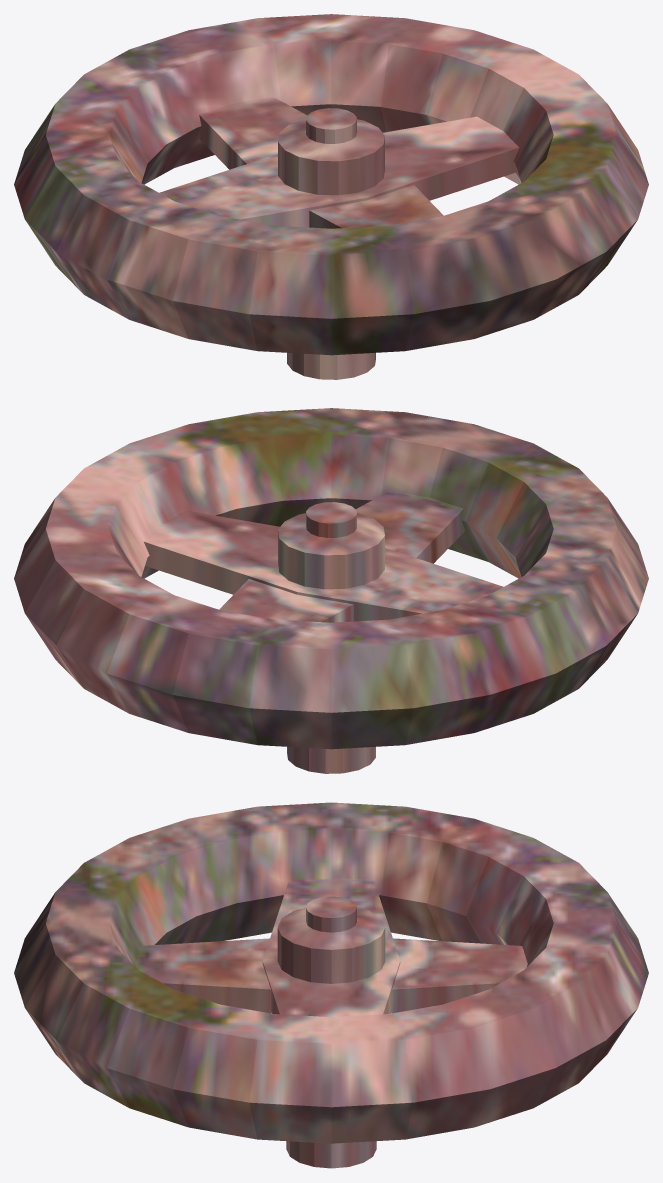
The model's file is GameValve.fbx.
The picture shows the model from 3 angles, top to bottom: view 1: azimuth 30°, elevation 25°; view 2: azimuth 150°, elevation 25°; view 3: azimuth 270°, elevation 25°; orthographic projection.
Parts seen in each view (by area): view 1: Valve; view 2: Valve; view 3: Valve.
Part boxes in pixels (box(x1,y1,x2,y2)): Valve: box(14, 14, 648, 379); Valve: box(14, 408, 648, 773); Valve: box(14, 802, 648, 1168).
Bounding box in the file's own units: 250 × 105 × 250.
Materials: 1 (1 with a texture image).
